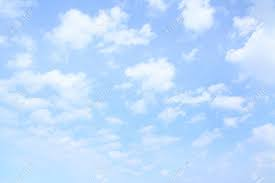sky: (1, 1, 275, 181)
